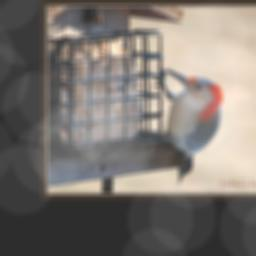Woodpecker: (150, 70, 223, 185)
